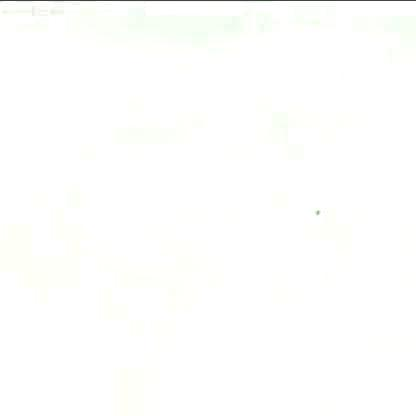golfball: (310, 206, 317, 213)
